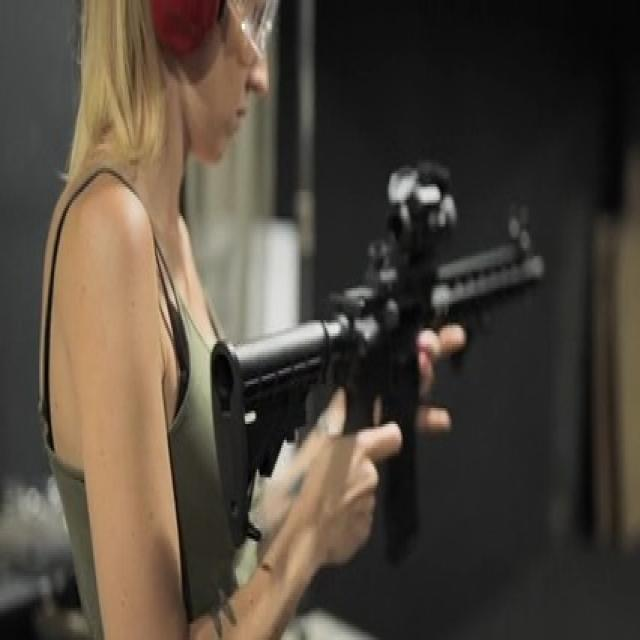Gun_Holder: (160, 160, 593, 587)
Person: (30, 0, 403, 640)
